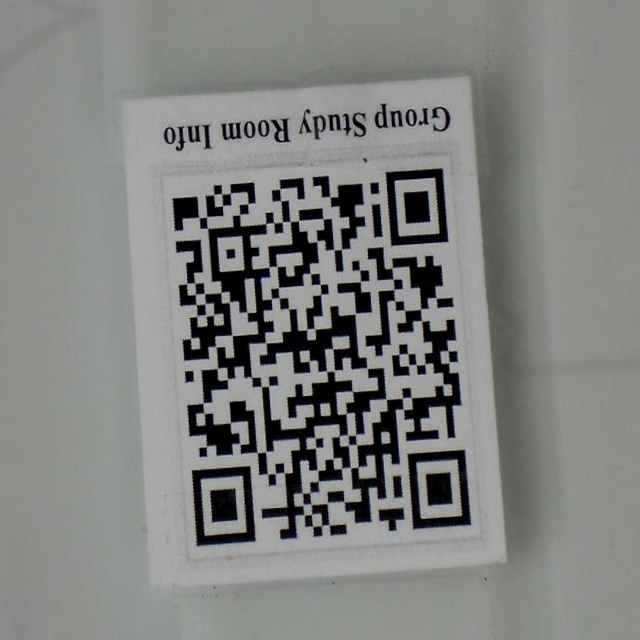qr-code: (172, 169, 472, 547)
